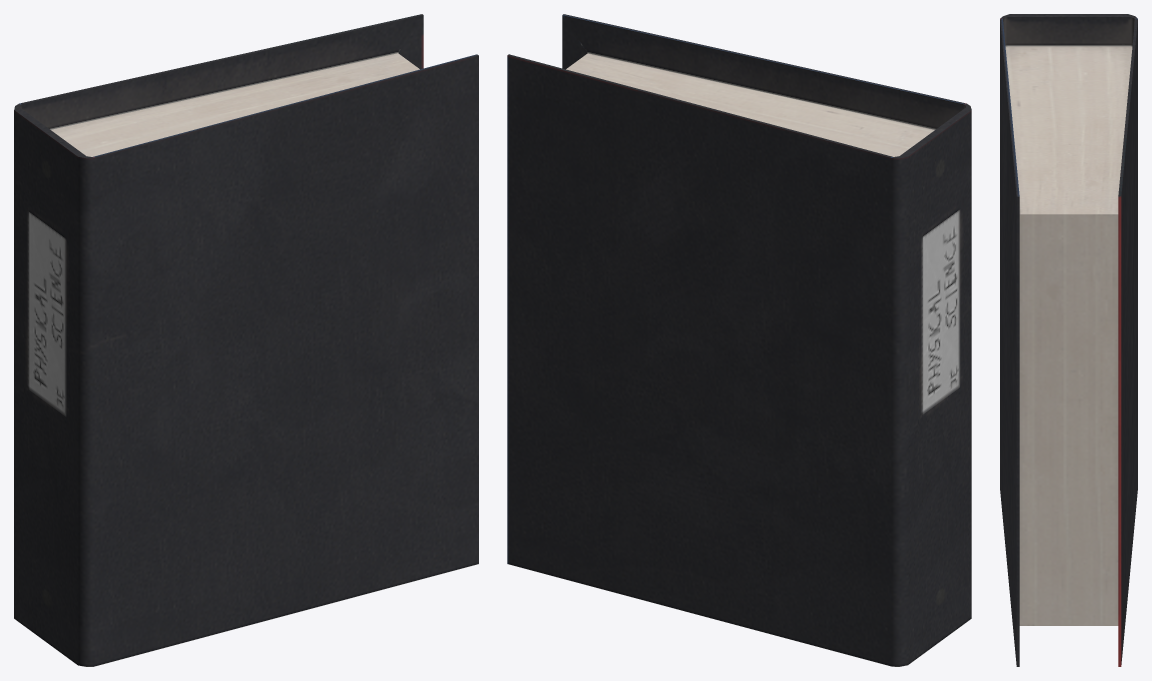
File: SM_Binder_01b.fbx
3 renders of one model, left to right at view 1: azimuth 30°, elevation 25°; view 2: azimuth 150°, elevation 25°; view 3: azimuth 270°, elevation 25°, orthographic. The views are drawn at different scales.
Visible parts, largest first — view 1: SM_Binder_01b_LOD0; view 2: SM_Binder_01b_LOD0; view 3: SM_Binder_01b_LOD0.
Boxes of the visible parts, x1,y1,x2,y2 form: SM_Binder_01b_LOD0: [14, 14, 478, 666]; SM_Binder_01b_LOD0: [507, 14, 971, 666]; SM_Binder_01b_LOD0: [1000, 14, 1137, 666].
Size of the model in its own units: 27.47 by 8.77 by 33.01.
1 material, 1 textured.
